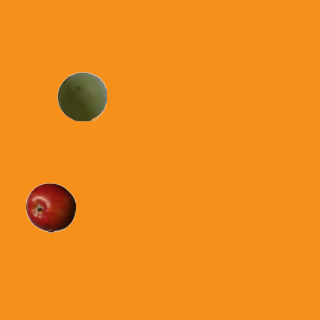Apple Braeburn: (25, 182, 75, 232)
Grape White 4: (56, 71, 106, 121)
